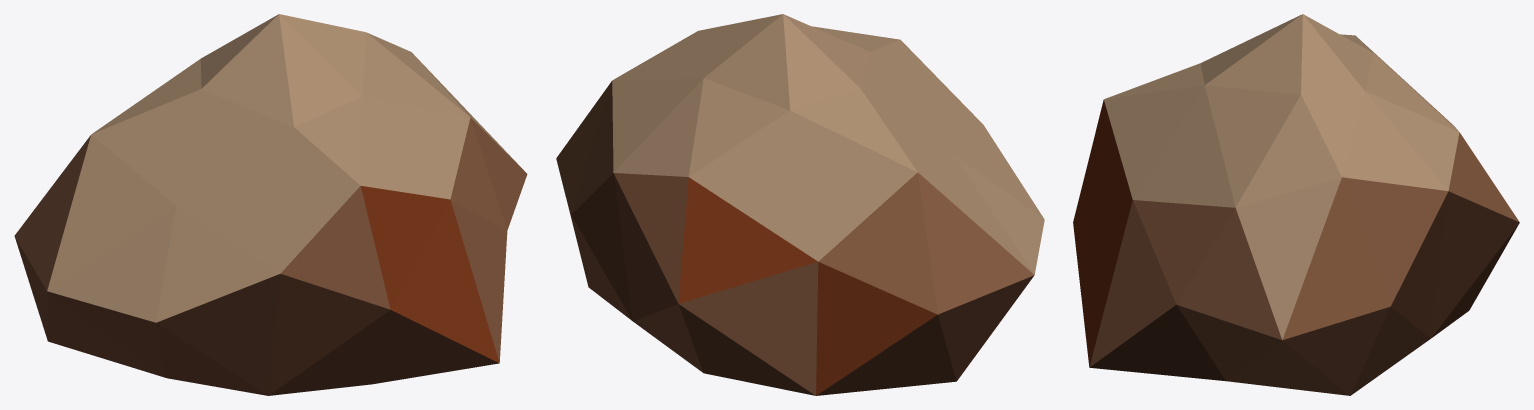
The model's file is kamen-maly-2.glb.
The picture shows the model from 3 angles, left to right: view 1: azimuth 30°, elevation 25°; view 2: azimuth 150°, elevation 25°; view 3: azimuth 270°, elevation 25°; orthographic projection.
Visible parts, largest first — view 1: kamen-maly-2; view 2: kamen-maly-2; view 3: kamen-maly-2.
Part boxes in pixels (<box>): kamen-maly-2: <box>14,14,527,395</box>; kamen-maly-2: <box>556,14,1044,395</box>; kamen-maly-2: <box>1073,14,1519,395</box>.
Bounding box in the file's own units: 0.7658 × 0.4552 × 0.6179.
